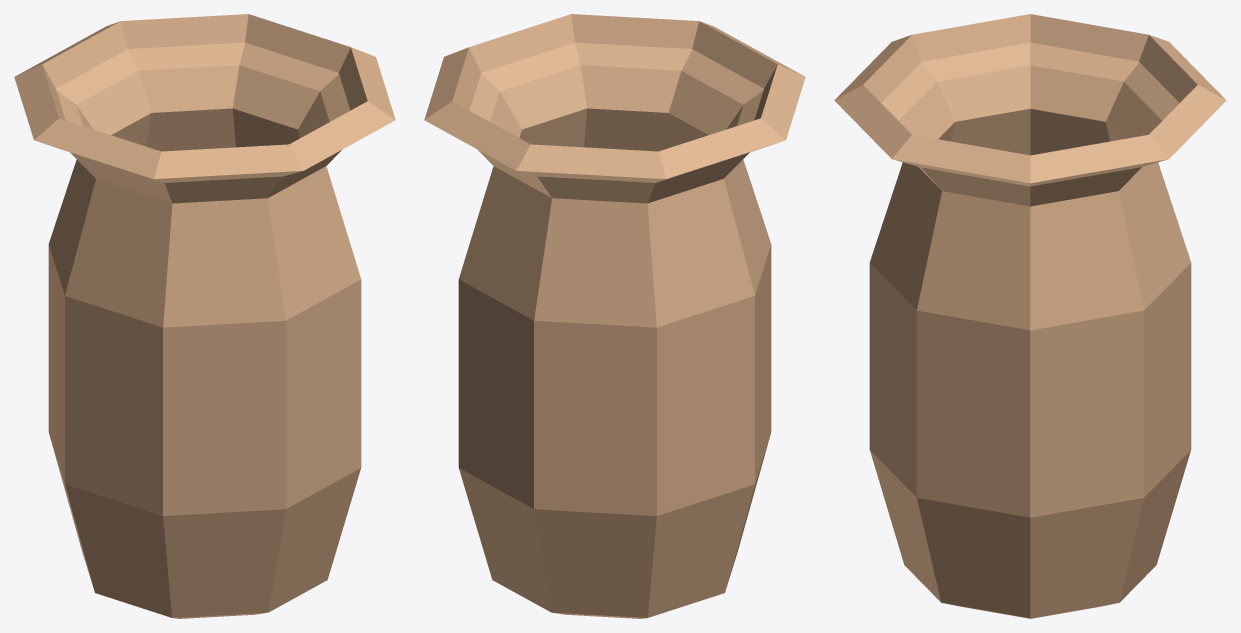
The model's file is roman_pot_2.fbx.
The picture shows the model from 3 angles, left to right: view 1: azimuth 30°, elevation 25°; view 2: azimuth 150°, elevation 25°; view 3: azimuth 270°, elevation 25°; orthographic projection.
Parts seen in each view (by area): view 1: Cylinder.003; view 2: Cylinder.003; view 3: Cylinder.003.
Boxes of the visible parts, x1,y1,x2,y2 form: Cylinder.003: [14, 14, 395, 618]; Cylinder.003: [424, 14, 805, 618]; Cylinder.003: [834, 14, 1226, 618].
Size of the model in its own units: 0.6264 by 0.867 by 0.6264.
